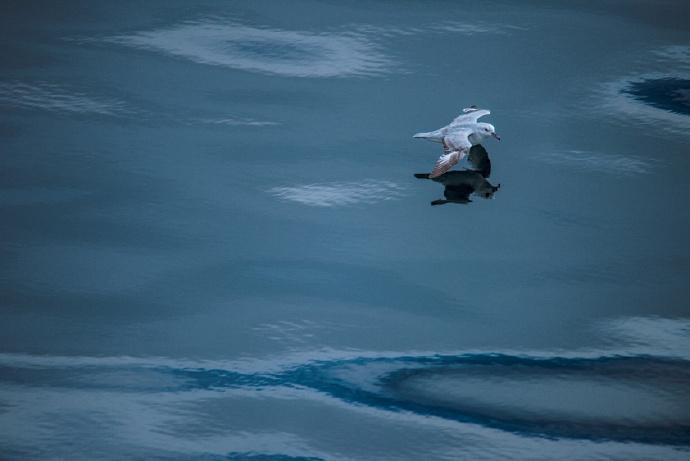bird: (405, 99, 499, 176)
